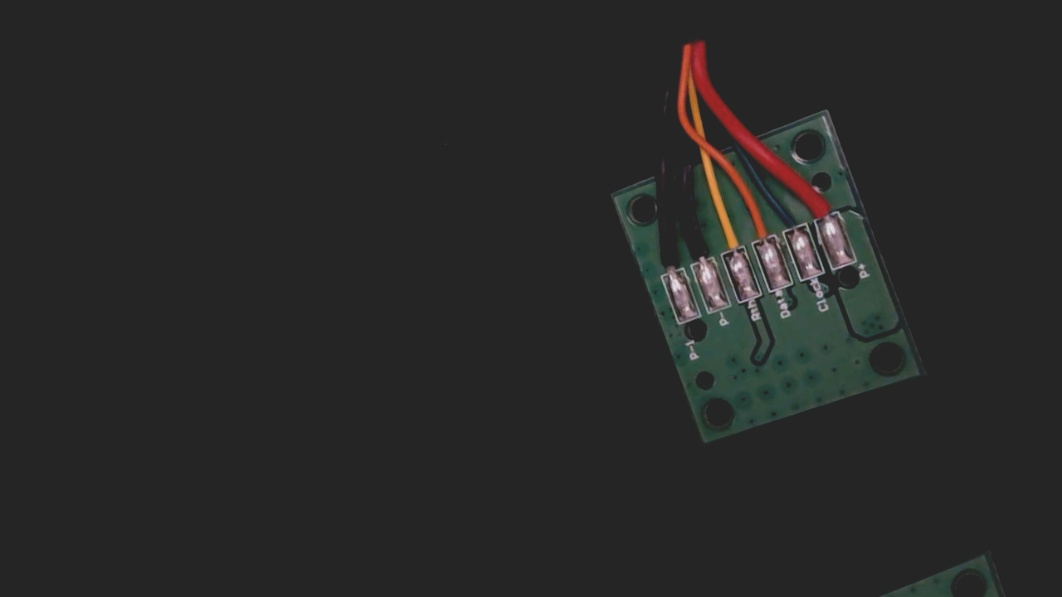Black: (675, 214, 722, 280)
Black1: (644, 229, 689, 290)
Green: (769, 184, 815, 248)
Orange: (736, 194, 781, 260)
Red: (800, 174, 846, 239)
Yellow: (706, 203, 753, 270)
